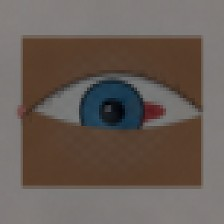hemorrhage_spot: (85, 74, 178, 149)
